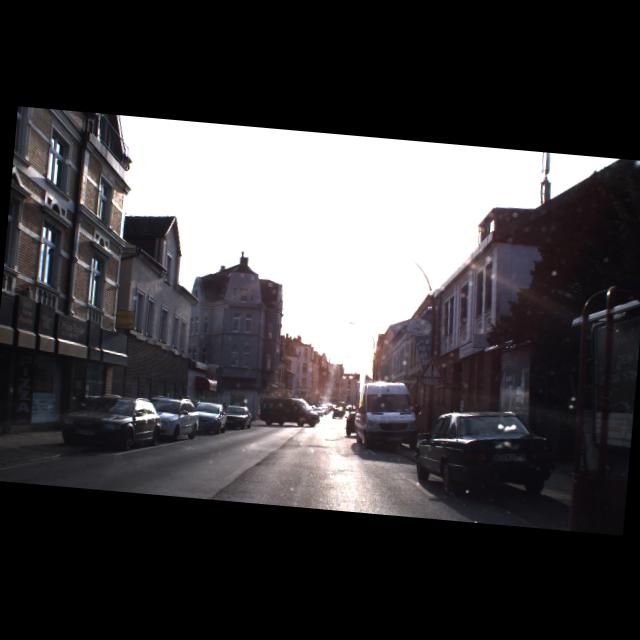danger: (418, 354, 447, 380)
